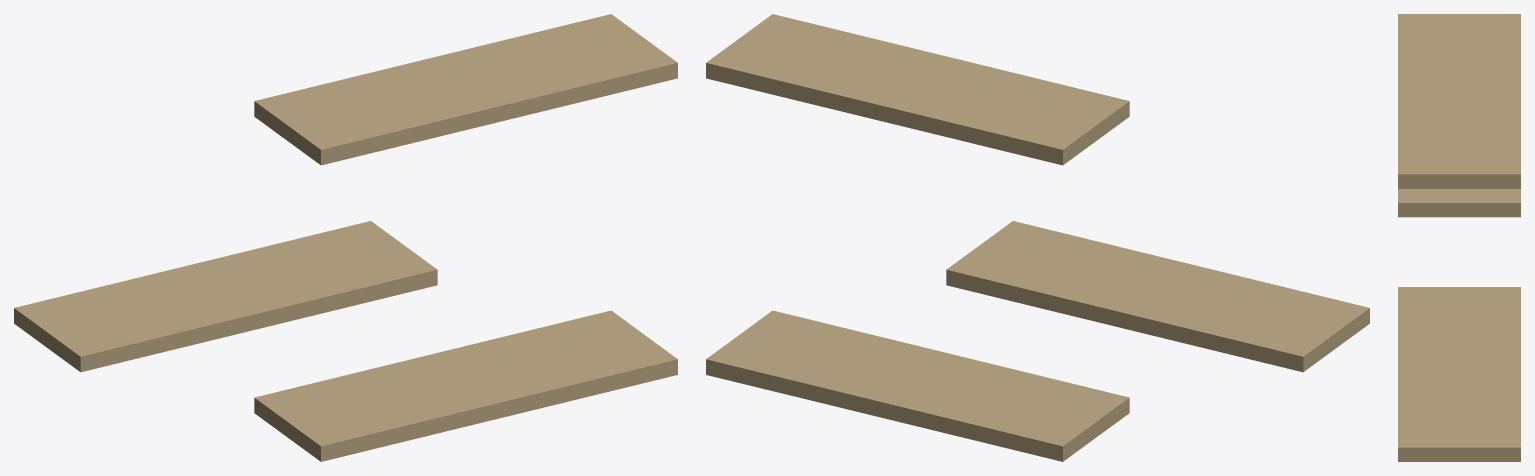
File: BookShelf_3.fbx
3 renders of one model, left to right at view 1: azimuth 30°, elevation 25°; view 2: azimuth 150°, elevation 25°; view 3: azimuth 270°, elevation 25°, orthographic. The views are drawn at different scales.
Parts seen in each view (by area): view 1: BookShelf3; view 2: BookShelf3; view 3: BookShelf3.
Part boxes in pixels (x1=…): BookShelf3: x1=14, y1=14, x2=677, y2=461; BookShelf3: x1=706, y1=14, x2=1369, y2=461; BookShelf3: x1=1398, y1=14, x2=1520, y2=461.
Bounding box in the file's own units: 390 × 195 × 75.53.
